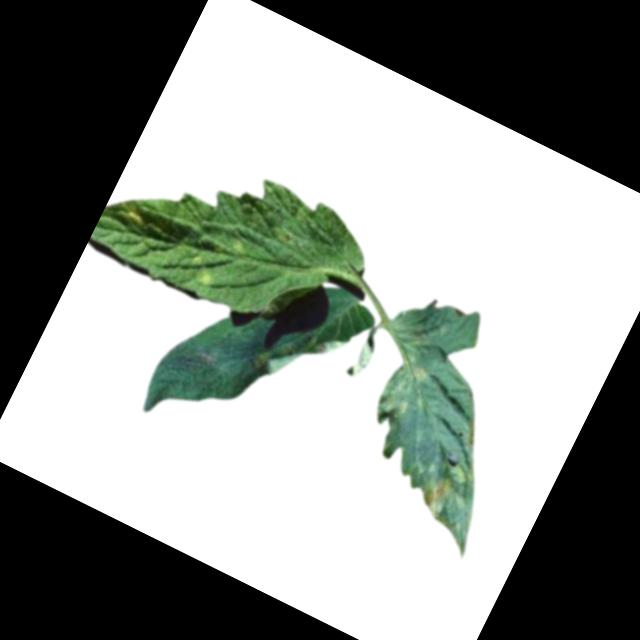Leaf_Mold: (253, 310, 347, 399), (369, 353, 435, 432), (415, 458, 475, 527), (179, 249, 223, 291), (121, 201, 154, 234)
